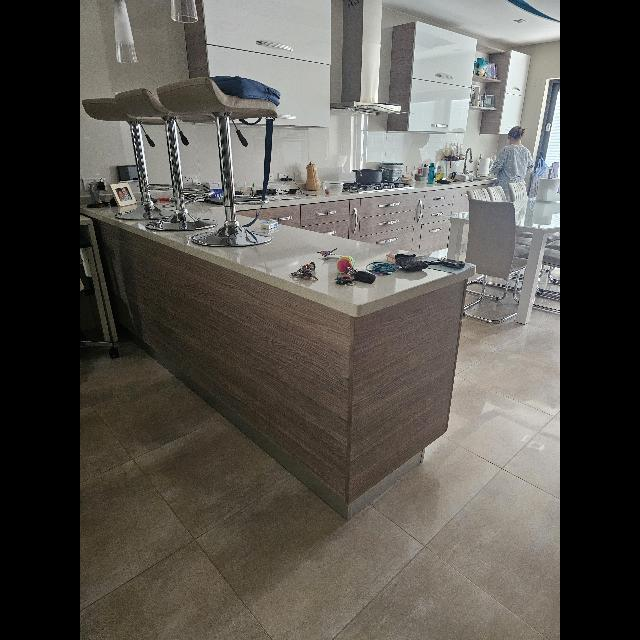Keys: (336, 266, 374, 286), (290, 261, 316, 281), (317, 248, 345, 260)
